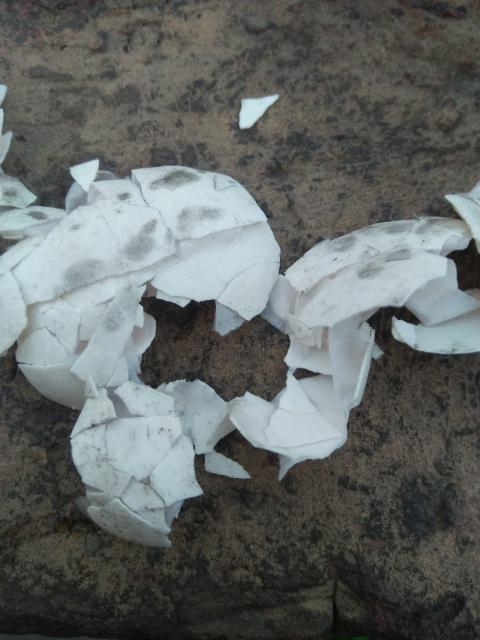Roto: (1, 78, 277, 406), (230, 215, 478, 482), (68, 378, 204, 548), (237, 92, 280, 130)
